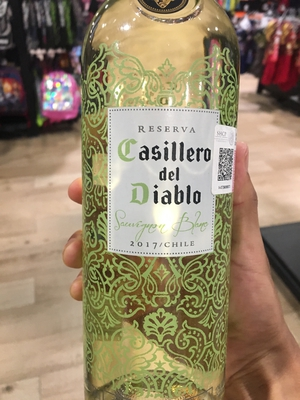casillero del diablo sauvignon blanc: (76, 12, 234, 400)
